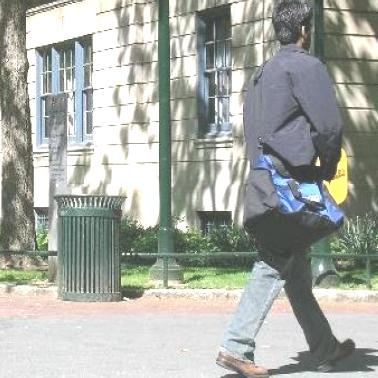ped: (216, 1, 355, 378)
